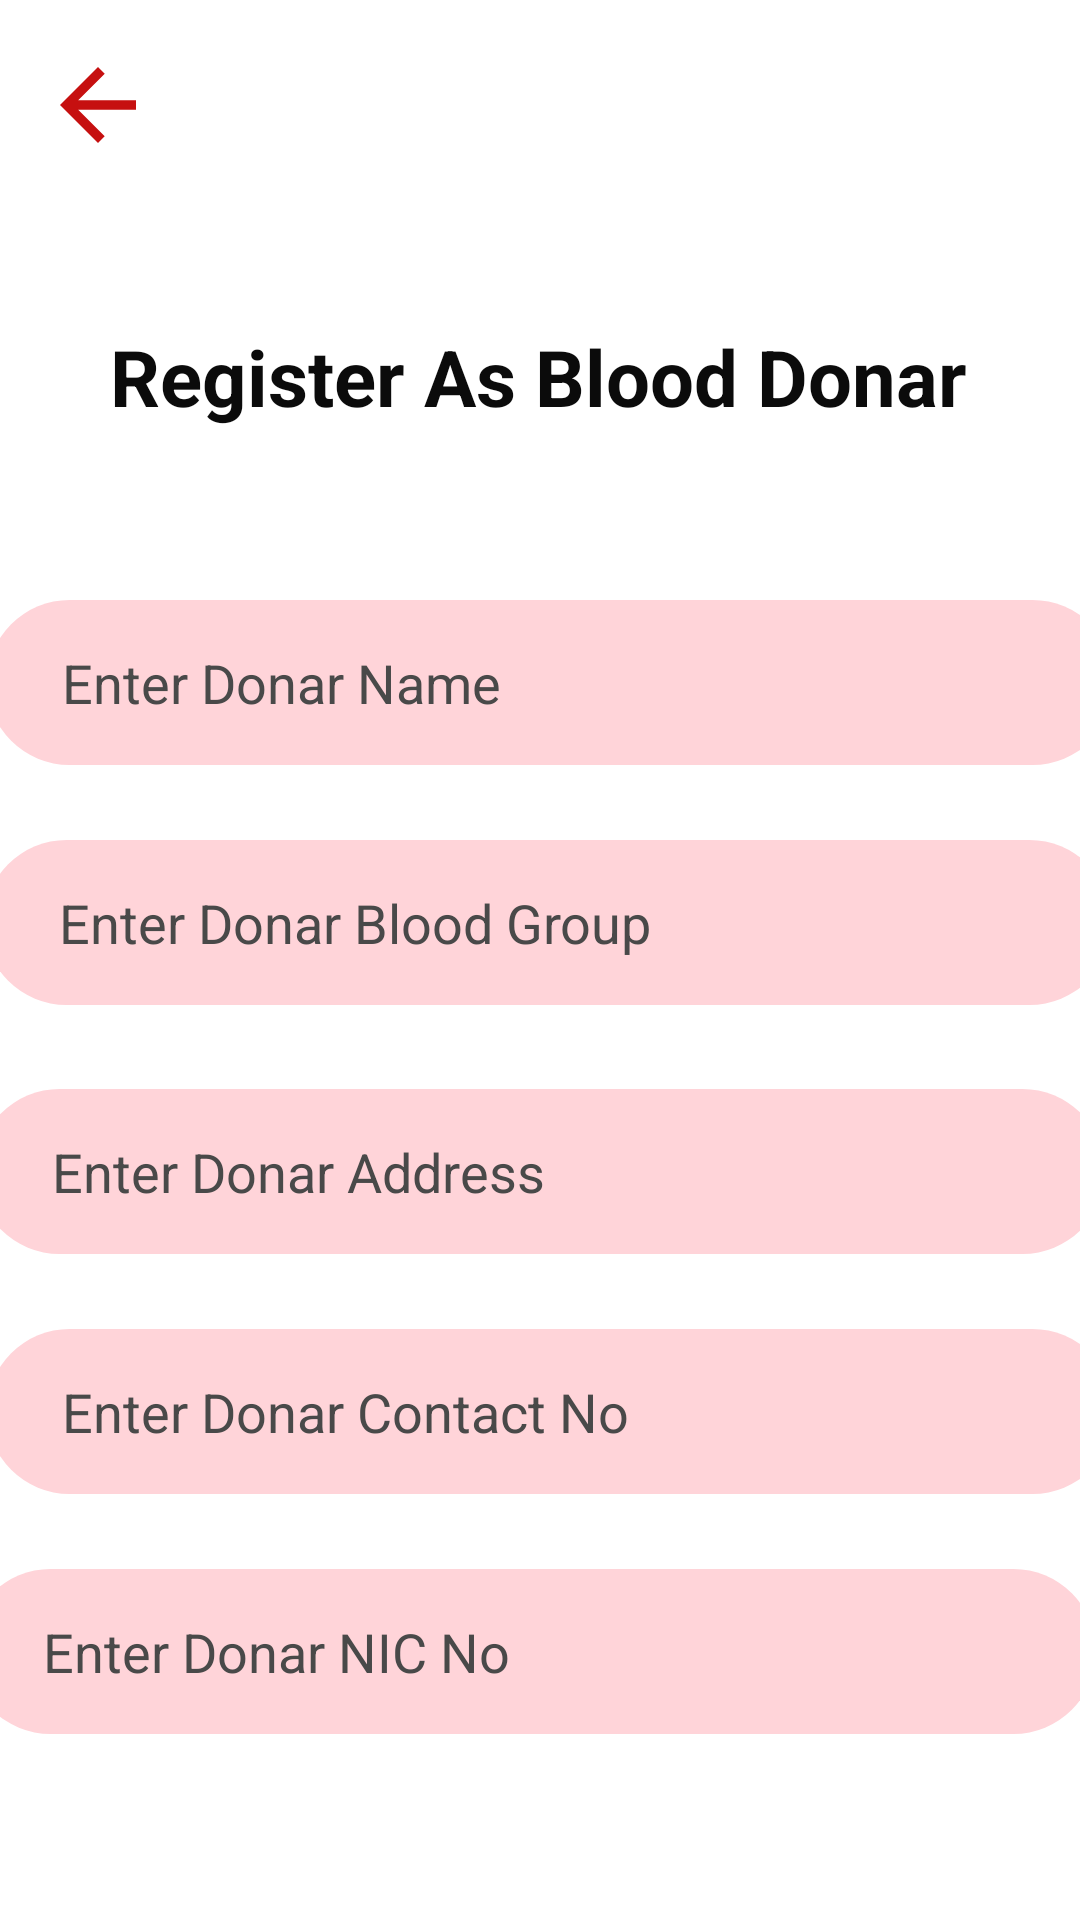

Named icons in this screenshot (1080 x 1920) and their centers, point (x, y):
arrow back: point (98, 105)
